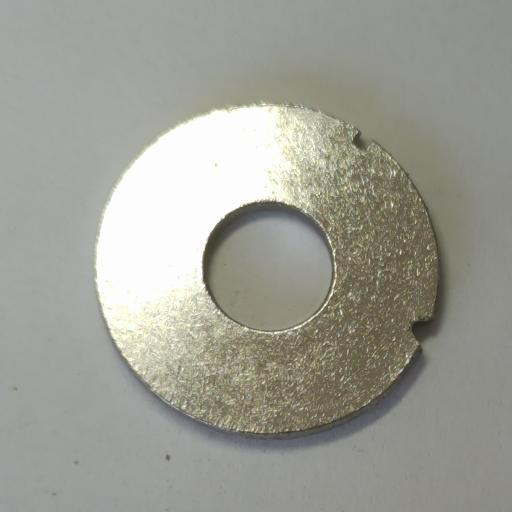burr: (410, 320, 432, 346), (352, 132, 373, 151)
